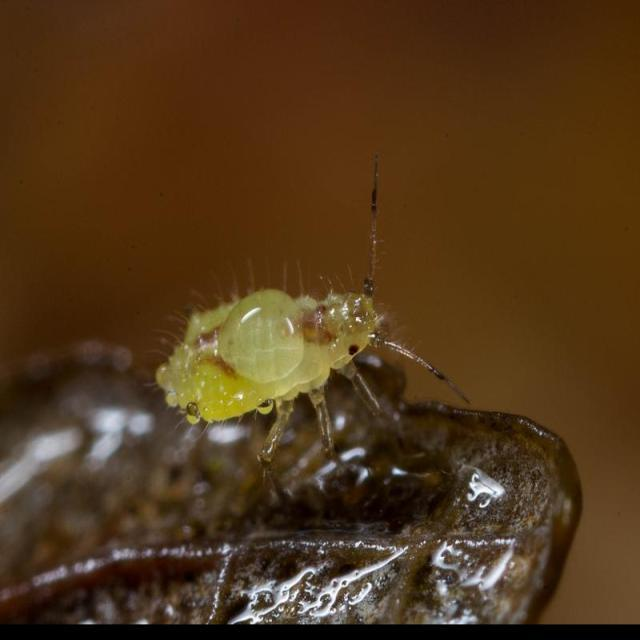aphid: (129, 206, 448, 474)
